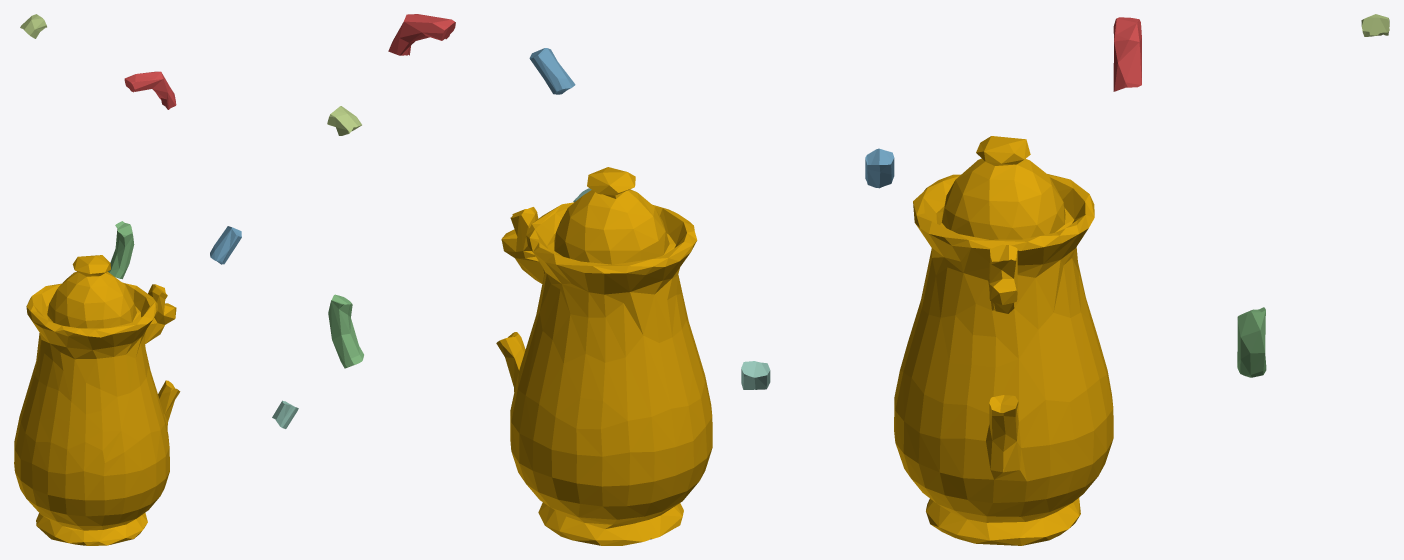
File: fractured_1_6pcs_transformed.glb
3 views of the same model, side by side, from view 1: azimuth 30°, elevation 25°; view 2: azimuth 150°, elevation 25°; view 3: azimuth 270°, elevation 25° (orthographic). The views are drawn at different scales.
Visible parts, largest first — view 1: piece_0.obj, piece_1.obj, piece_3.obj, piece_2.obj, piece_4.obj, piece_5.obj; view 2: piece_0.obj, piece_3.obj, piece_1.obj, piece_2.obj, piece_5.obj; view 3: piece_0.obj, piece_1.obj, piece_3.obj, piece_2.obj, piece_4.obj.
Part boxes in pixels (left/top/right/bottom): piece_0.obj: left=14, top=255, right=180, bottom=545; piece_1.obj: left=124, top=71, right=176, bottom=109; piece_3.obj: left=108, top=221, right=134, bottom=279; piece_2.obj: left=210, top=226, right=241, bottom=264; piece_4.obj: left=272, top=400, right=298, bottom=428; piece_5.obj: left=20, top=14, right=46, bottom=38; piece_0.obj: left=496, top=167, right=712, bottom=545; piece_3.obj: left=328, top=294, right=363, bottom=368; piece_1.obj: left=388, top=14, right=455, bottom=55; piece_2.obj: left=529, top=48, right=575, bottom=94; piece_5.obj: left=327, top=106, right=361, bottom=135; piece_0.obj: left=894, top=136, right=1113, bottom=545; piece_1.obj: left=1113, top=17, right=1141, bottom=91; piece_3.obj: left=1237, top=307, right=1266, bottom=377; piece_2.obj: left=865, top=148, right=894, bottom=188; piece_4.obj: left=741, top=361, right=770, bottom=389.
Bounding box in the file's own units: 0.7666 × 1.48 × 1.57.
